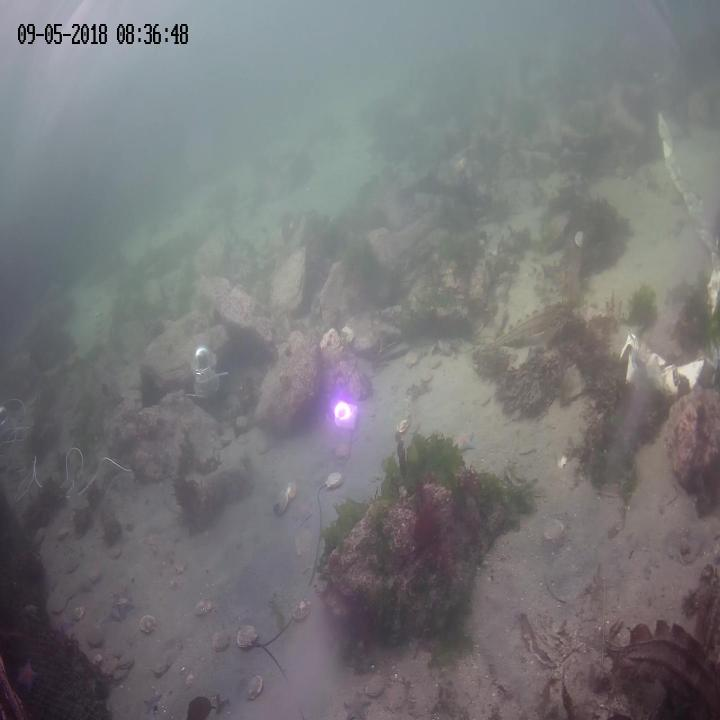scallop: (238, 618, 258, 646), (246, 673, 264, 701), (273, 489, 290, 517), (211, 630, 229, 654), (283, 473, 297, 503), (192, 600, 212, 620), (292, 600, 310, 622), (367, 672, 386, 692), (139, 615, 155, 633), (70, 605, 80, 619)
starfish: (342, 688, 372, 720), (108, 584, 132, 616), (452, 431, 474, 452)
